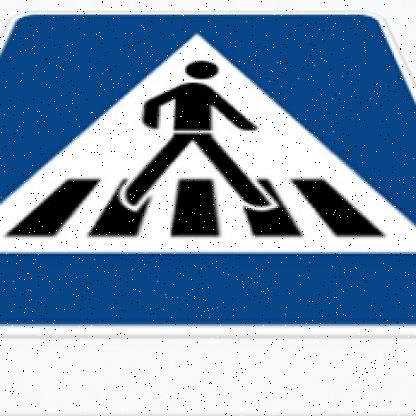Pedestrian Crossing: (1, 1, 416, 340)
